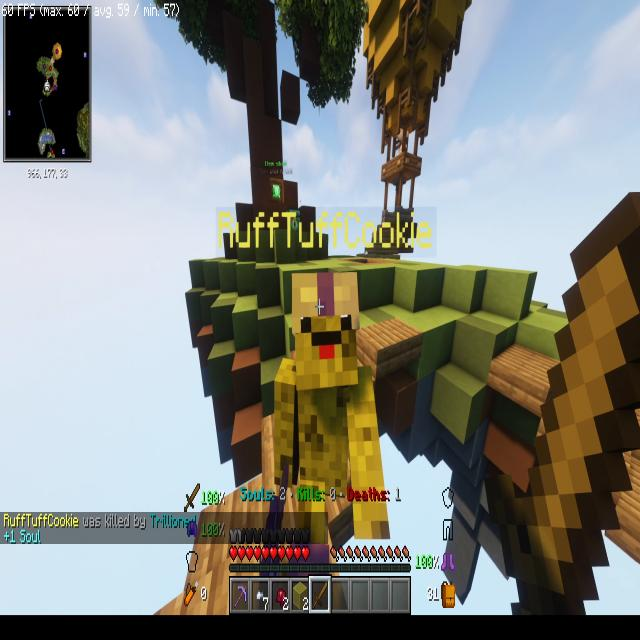Player: (260, 258, 398, 615)
